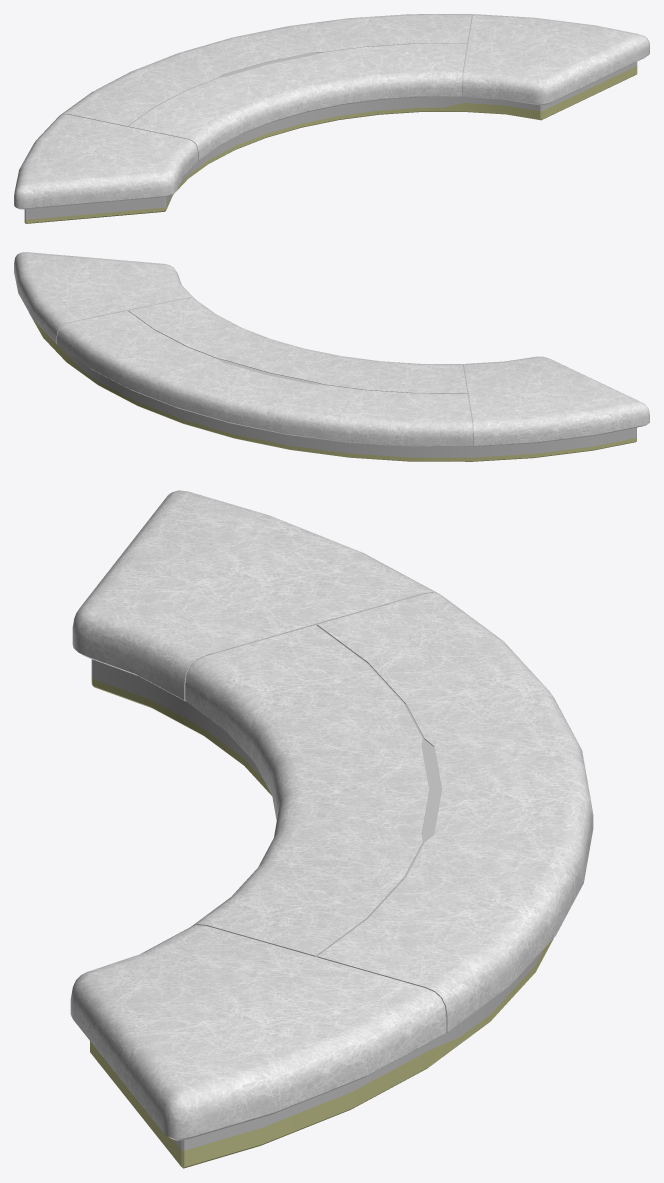
File: D_Bench_106.fbx
The picture shows the model from 3 angles, top to bottom: view 1: azimuth 30°, elevation 25°; view 2: azimuth 150°, elevation 25°; view 3: azimuth 270°, elevation 25°; orthographic projection. The views are drawn at different scales.
Parts seen in each view (by area): view 1: D_Bench_106; view 2: D_Bench_106; view 3: D_Bench_106.
Boxes of the visible parts, bbox=[...] form: D_Bench_106: bbox=[14, 14, 649, 223]; D_Bench_106: bbox=[14, 252, 649, 461]; D_Bench_106: bbox=[70, 490, 593, 1168].
Bounding box in the file's own units: 2.8 × 0.17 × 0.9999.
